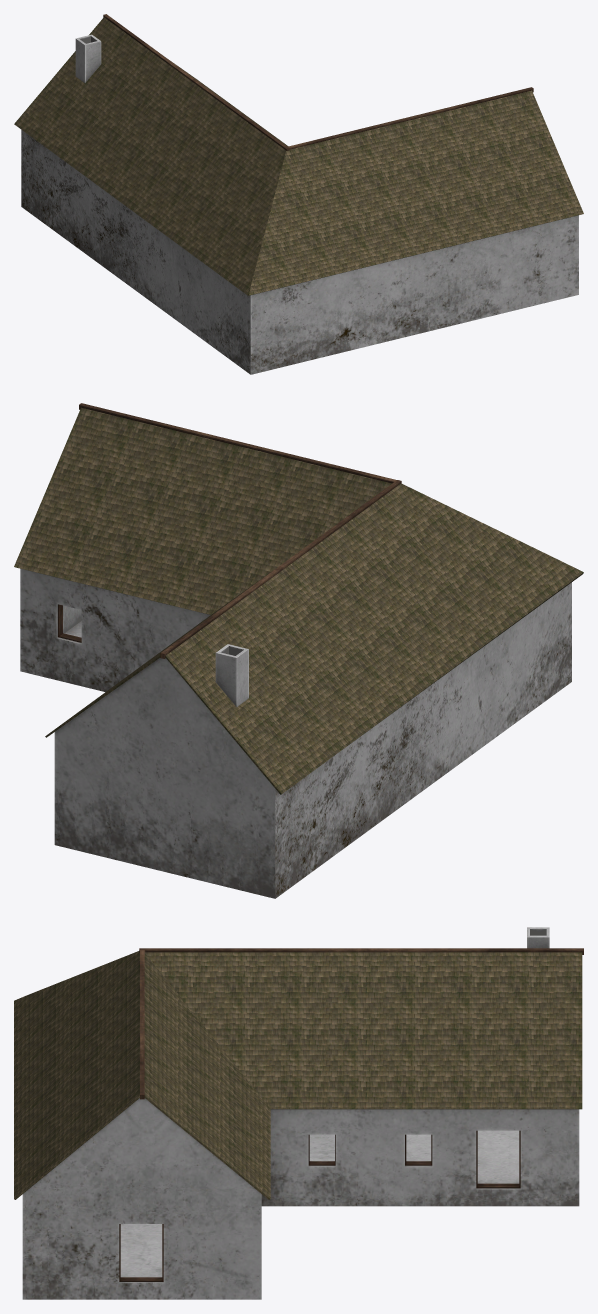
The model's file is villagehouse4.obj.
3 renders of one model, top to bottom at view 1: azimuth 30°, elevation 25°; view 2: azimuth 150°, elevation 25°; view 3: azimuth 270°, elevation 25°, orthographic. The views are drawn at different scales.
Parts seen in each view (by area): view 1: Cube.016, Cube.011; view 2: Cube.016, Cube.011; view 3: Cube.016, Cube.011.
Boxes of the visible parts, left/top/right/bottom form: Cube.016: left=14, top=14, right=583, bottom=295; Cube.011: left=21, top=130, right=578, bottom=374; Cube.016: left=14, top=403, right=583, bottom=794; Cube.011: left=20, top=568, right=571, bottom=898; Cube.016: left=14, top=927, right=583, bottom=1199; Cube.011: left=22, top=1098, right=579, bottom=1299.
Bounding box in the file's own units: 16.02 × 7.72 × 19.33.
2 materials, 2 textured.
